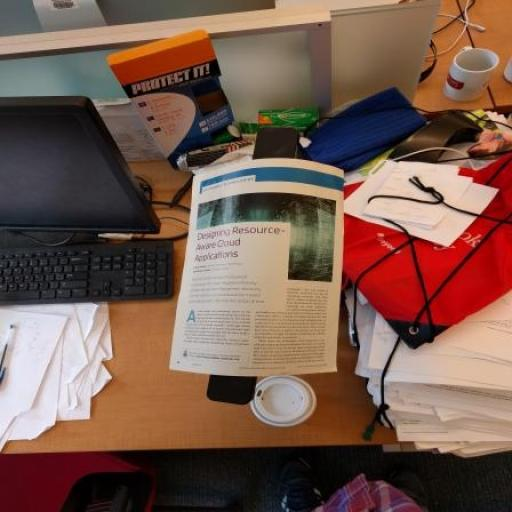paper: (111, 130, 427, 416)
